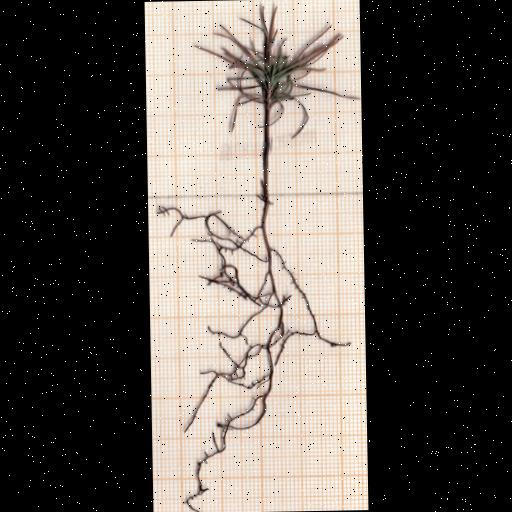flowerCedr: (195, 7, 354, 138)
rootCedr: (159, 206, 348, 512)
stemCedr: (260, 107, 271, 232)
